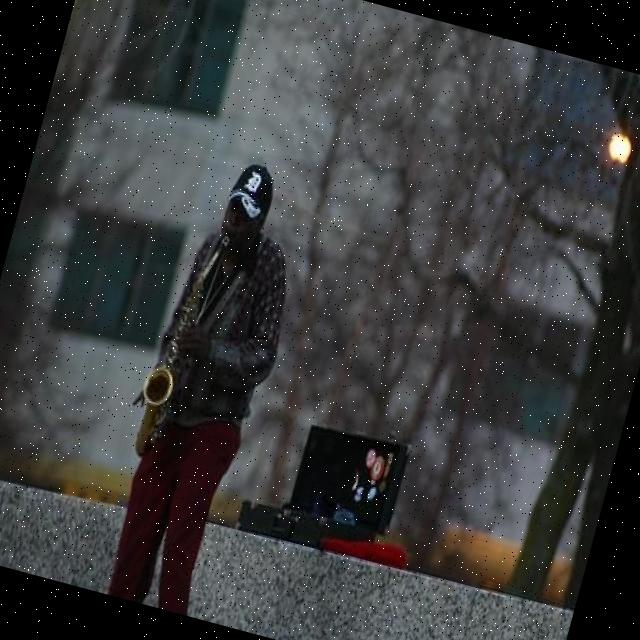saxophone: (125, 222, 238, 471)
